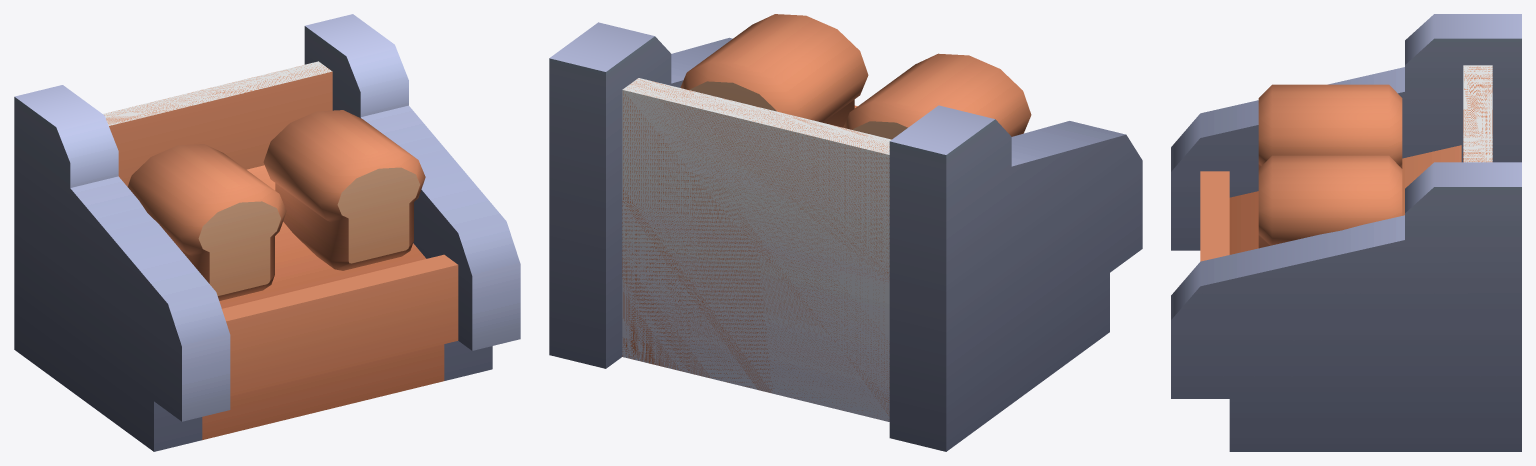
Rendered from market.display_bread.glb.
The picture shows the model from 3 angles, left to right: view 1: azimuth 30°, elevation 25°; view 2: azimuth 150°, elevation 25°; view 3: azimuth 270°, elevation 25°; orthographic projection. The views are drawn at different scales.
Visible parts, largest first — view 1: display-bread, bread (×2); view 2: display-bread, bread (×2); view 3: display-bread, bread (×2).
Part boxes in pixels (x1,y1,x2,y2): display-bread: [14, 14, 520, 451]; bread (×2): [127, 110, 425, 300]; display-bread: [549, 22, 1142, 451]; bread (×2): [680, 14, 1031, 139]; display-bread: [1171, 14, 1521, 451]; bread (×2): [1258, 84, 1402, 248].
Size of the model in its own units: 1.79 by 1.28 by 1.53.
1 material, 1 textured.
